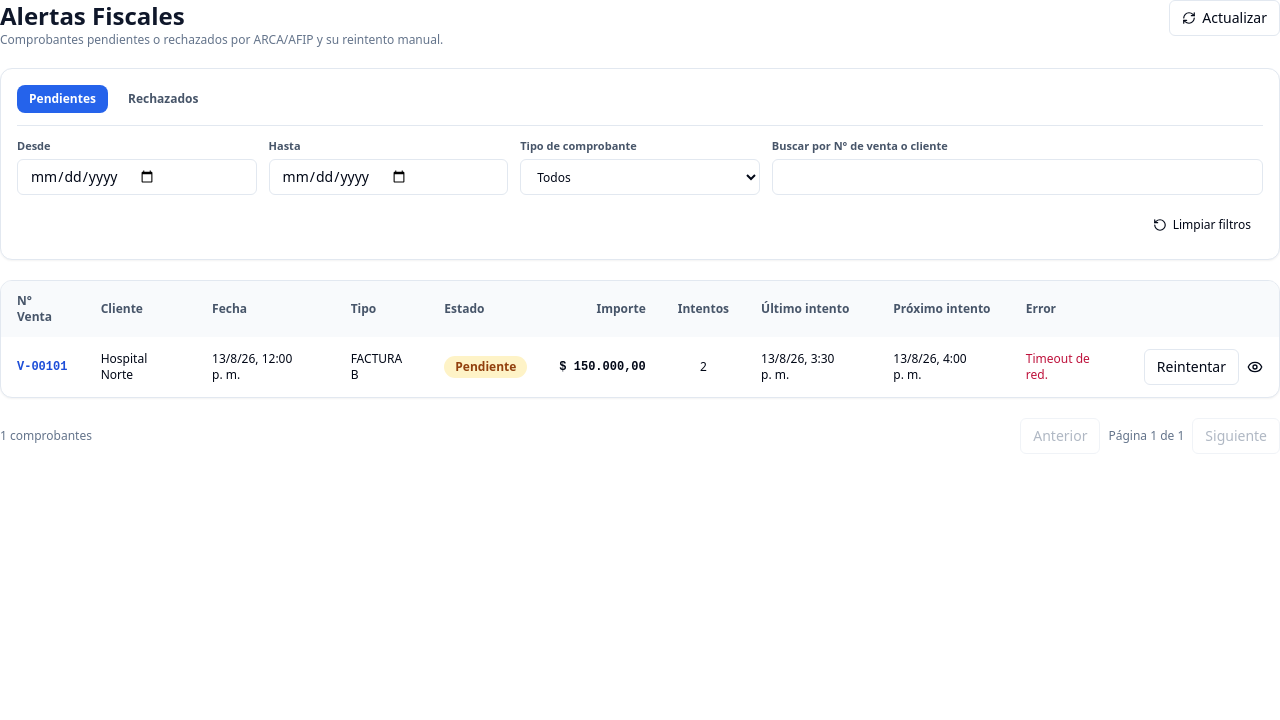
Test: FiscalAlertsPage › opens the retry confirmation dialog for a retryable document
Click the button "Reintentar".
click(1191, 366)  # box [1144,348,1239,384]
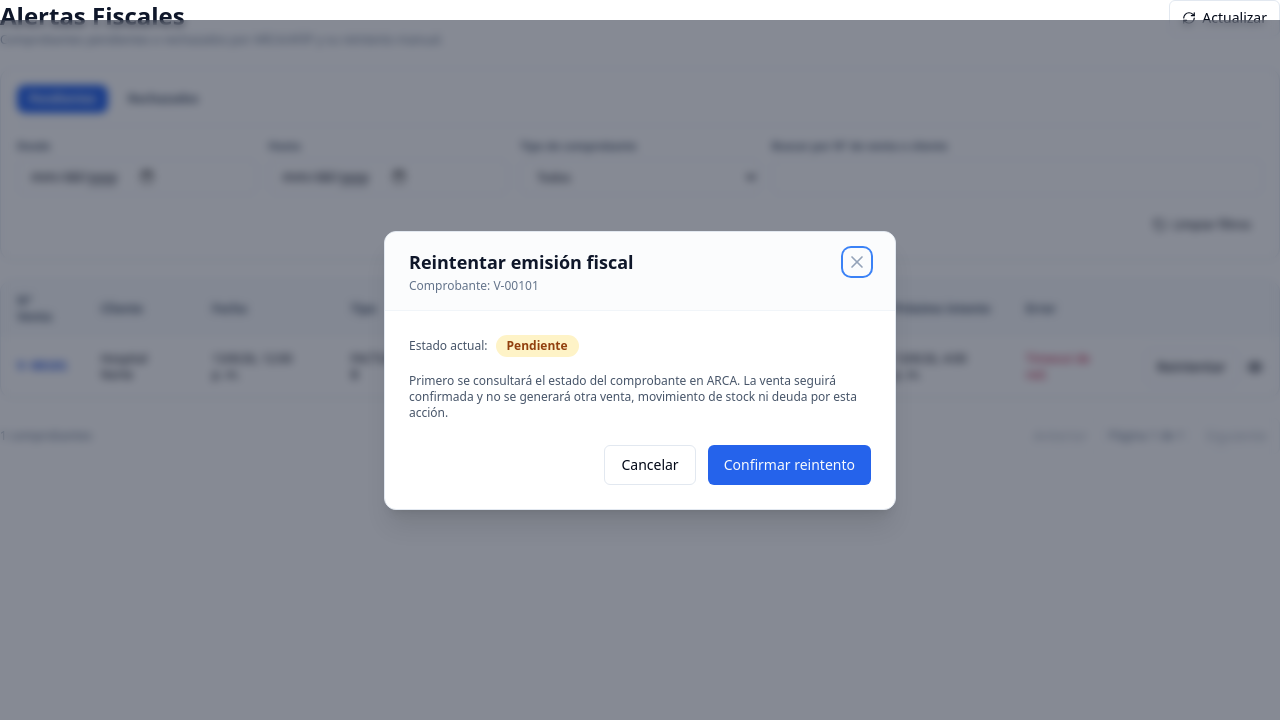
Expected: the dialog "Reintentar emisión fiscal" is shown, [384,230,896,510]
Expected: the text "Primero se consultará el estado del comprobante" is shown, [409,372,857,420]
